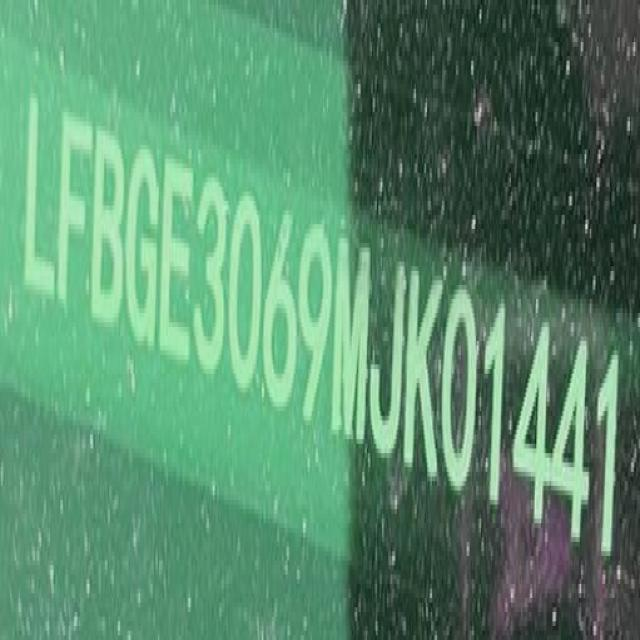0: (444, 278, 480, 502), (231, 187, 263, 399)
1: (485, 289, 508, 516), (600, 345, 622, 575)
3: (197, 168, 230, 384)
4: (514, 306, 553, 536), (554, 320, 593, 550)
6: (264, 198, 298, 420)
9: (300, 215, 333, 438)
B: (93, 122, 126, 336)
E: (161, 152, 195, 372)
F: (59, 108, 91, 324)
G: (127, 138, 161, 354)
J: (371, 232, 404, 468)
K: (407, 258, 442, 490)
L: (21, 84, 57, 311)
M: (333, 228, 370, 463)
